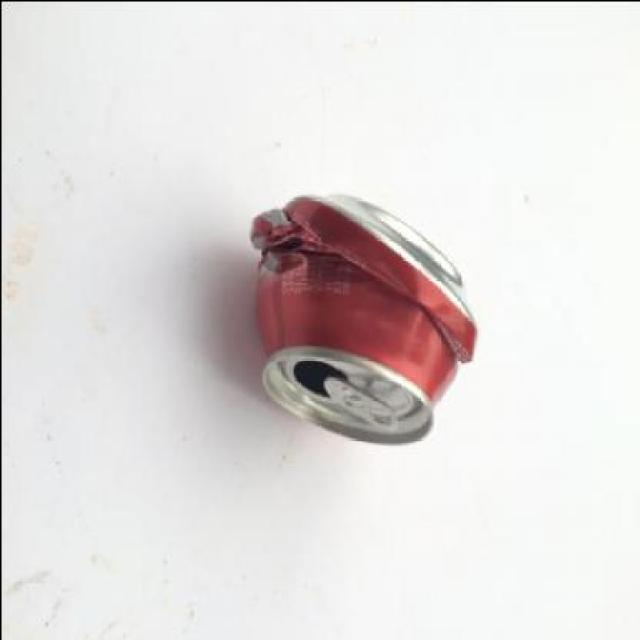METAL: (249, 188, 480, 447)
